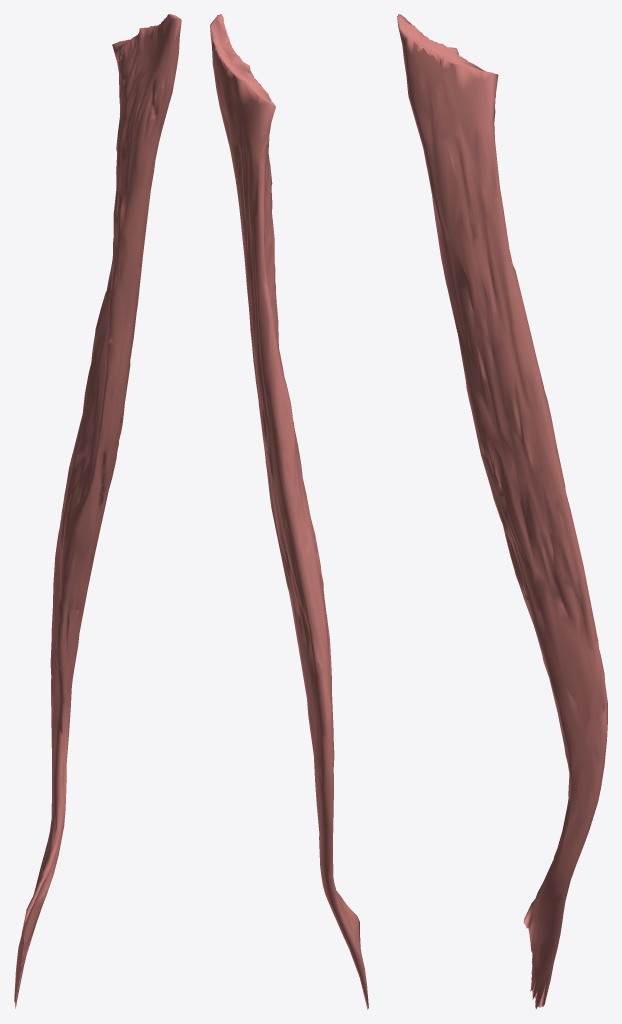
3 views of the same model, side by side, from view 1: azimuth 30°, elevation 25°; view 2: azimuth 210°, elevation 25°; view 3: azimuth 270°, elevation 25° (orthographic). The views are drawn at different scales.
Visible parts, largest first — view 1: ZA_5c744deccf6d9d94; view 2: ZA_5c744deccf6d9d94; view 3: ZA_5c744deccf6d9d94.
Part boxes in pixels (x1,y1,x2,y2): ZA_5c744deccf6d9d94: [14, 14, 181, 1008]; ZA_5c744deccf6d9d94: [210, 14, 368, 1009]; ZA_5c744deccf6d9d94: [397, 14, 607, 1009].
Size of the model in its own units: 0.0531 by 0.4936 by 0.0907.
